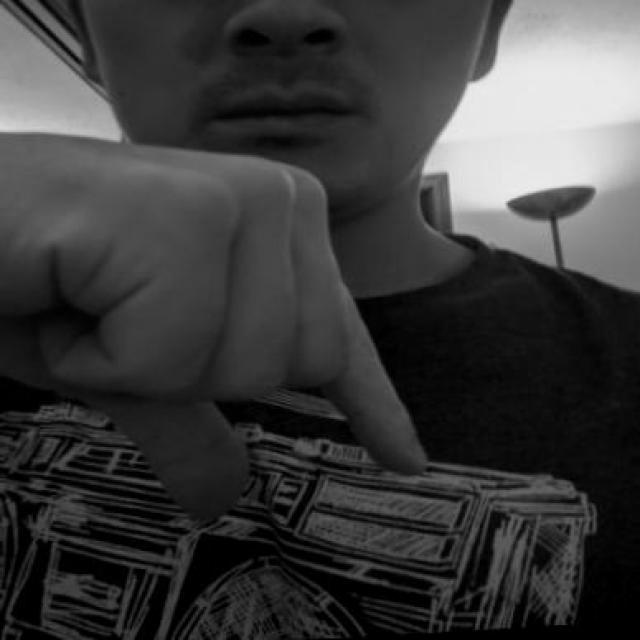Q: (0, 99, 447, 543)
